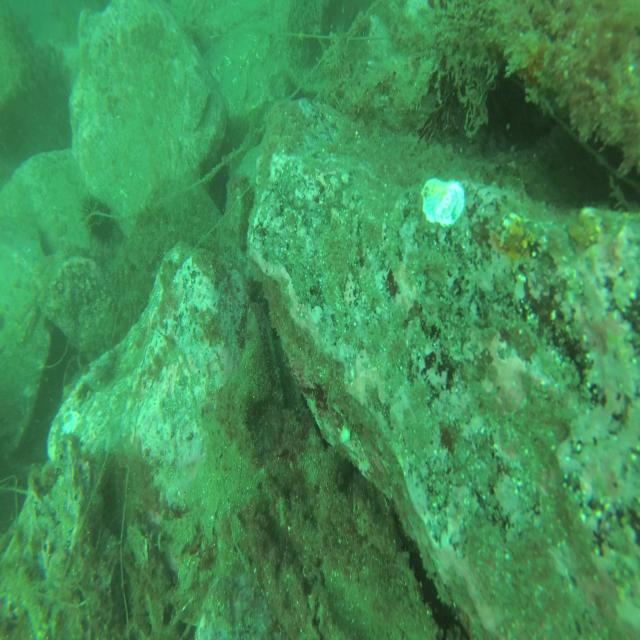echinus: (78, 187, 114, 242)
